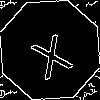X: (25, 25, 74, 81)
